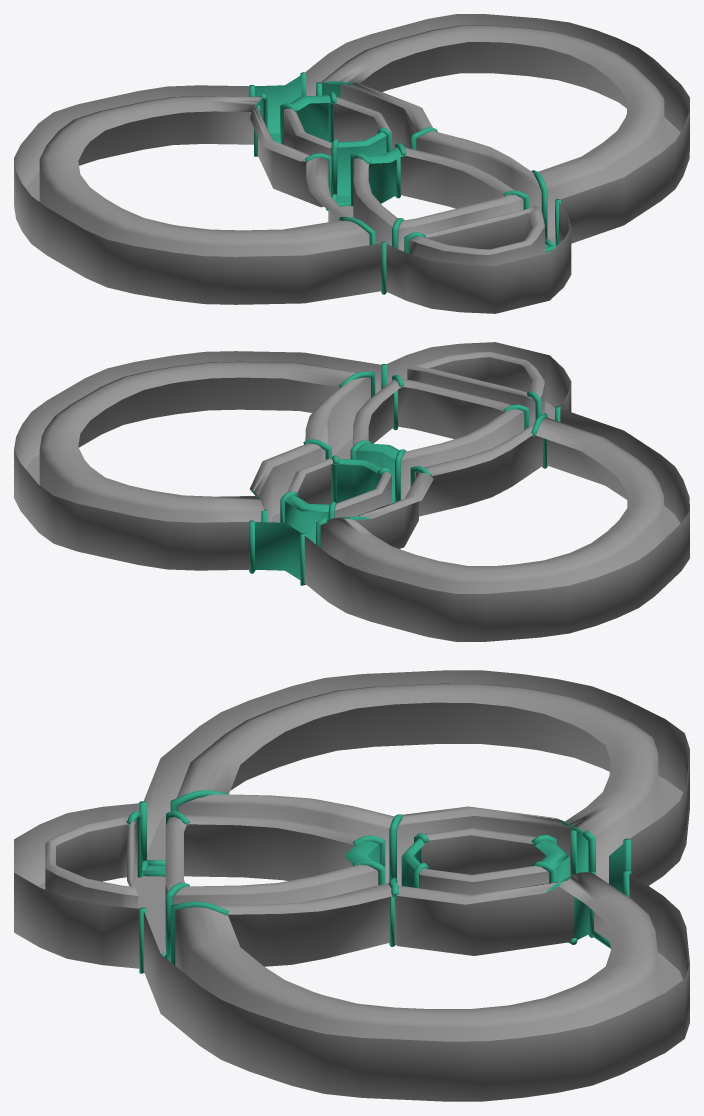
File: Level_04.FBX
The picture shows the model from 3 angles, top to bottom: view 1: azimuth 30°, elevation 25°; view 2: azimuth 150°, elevation 25°; view 3: azimuth 270°, elevation 25°; orthographic projection. The views are drawn at different scales.
Parts seen in each view (by area): view 1: level_04; view 2: level_04; view 3: level_04.
Part boxes in pixels (x1,y1,x2,y2): level_04: (14,14,689,313); level_04: (14,342,689,641); level_04: (14,670,689,1101).
Size of the model in its own units: 11263 by 1034 by 8671.
